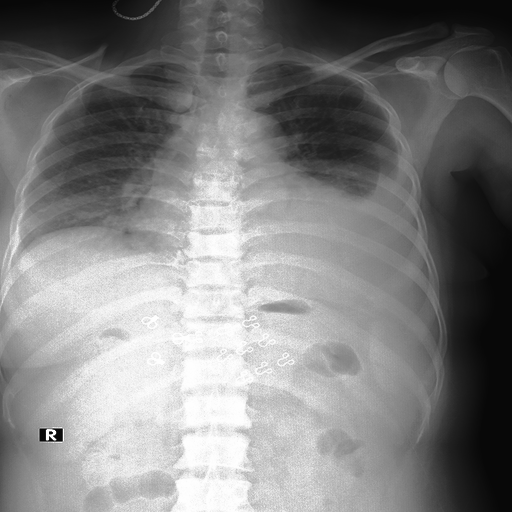Consolidation: (222, 106, 285, 159)
Pleural effusion: (334, 159, 414, 254)
